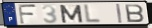3: (42, 4, 59, 24)
B: (124, 4, 146, 24)
F: (17, 4, 38, 25)
I: (115, 3, 123, 24)
L: (84, 4, 103, 24)
M: (58, 4, 85, 24)
